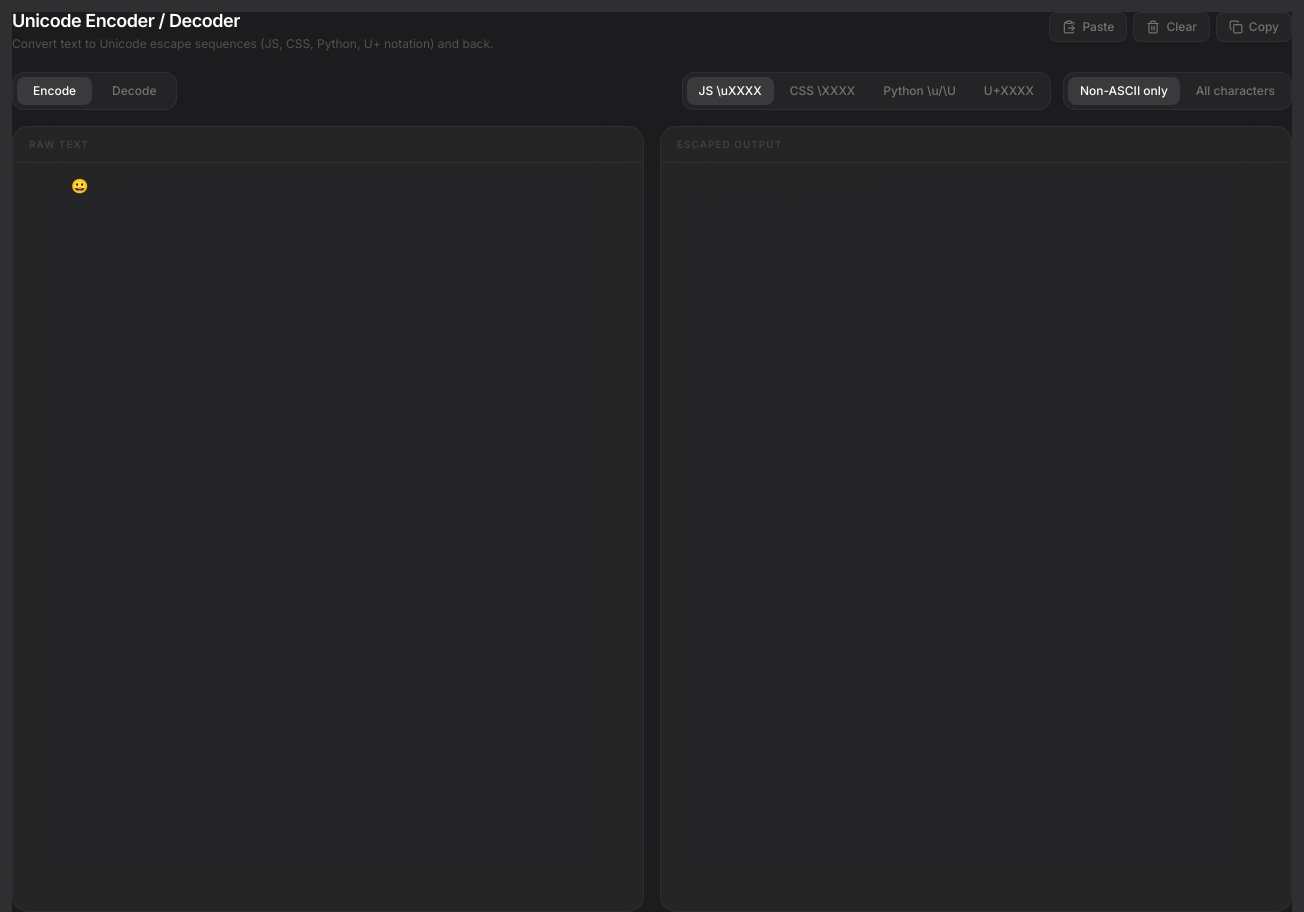
Test: UnicodeEscapeCoder › shows the style and scope toggles only when encoding
Expected: the button "Non-ASCII only" is shown, [1068,77,1180,105]
Click the button "decode". click: (134, 91)
box: [96,77,172,105]
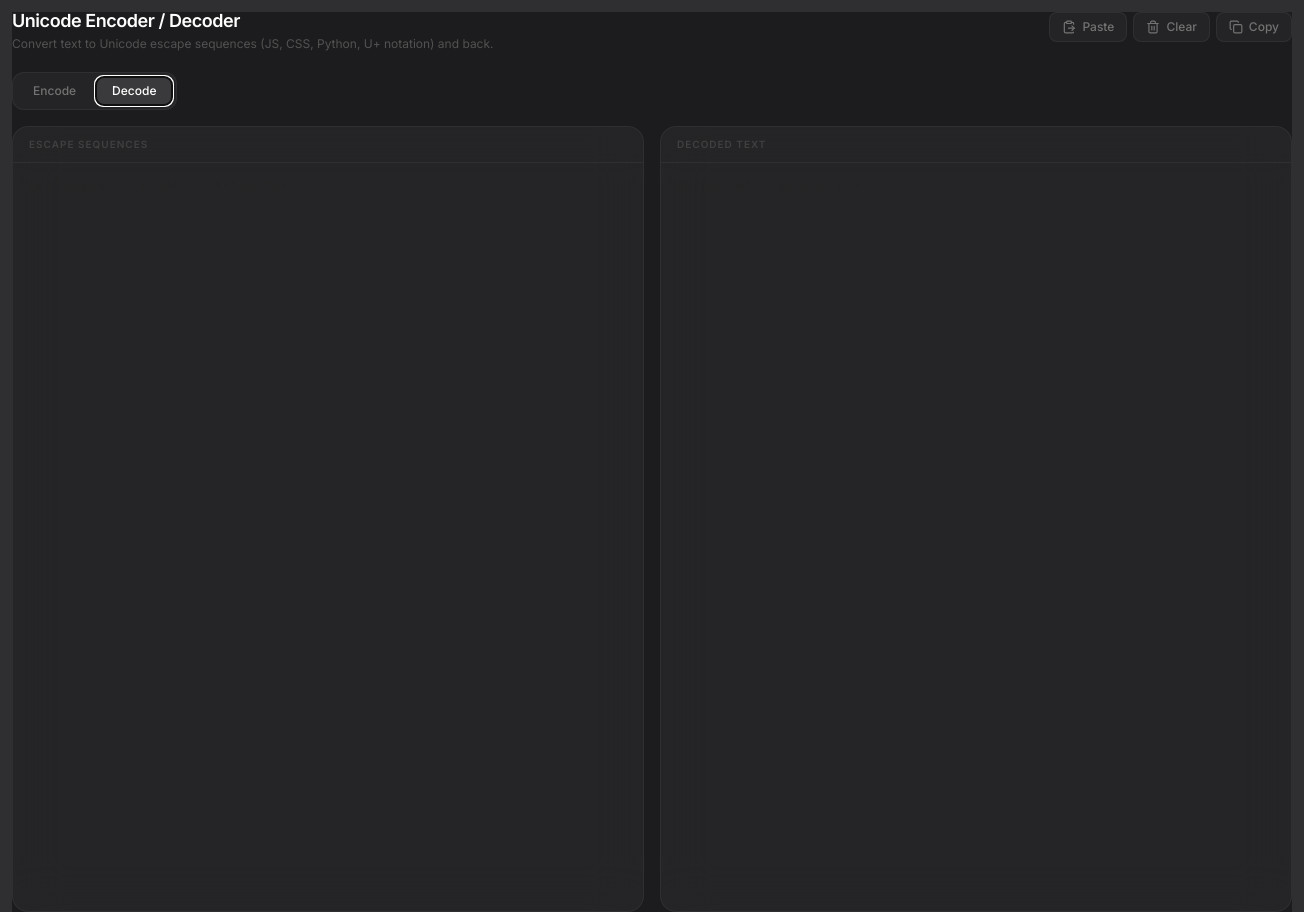
Expected: the button "Non-ASCII only" is gone
